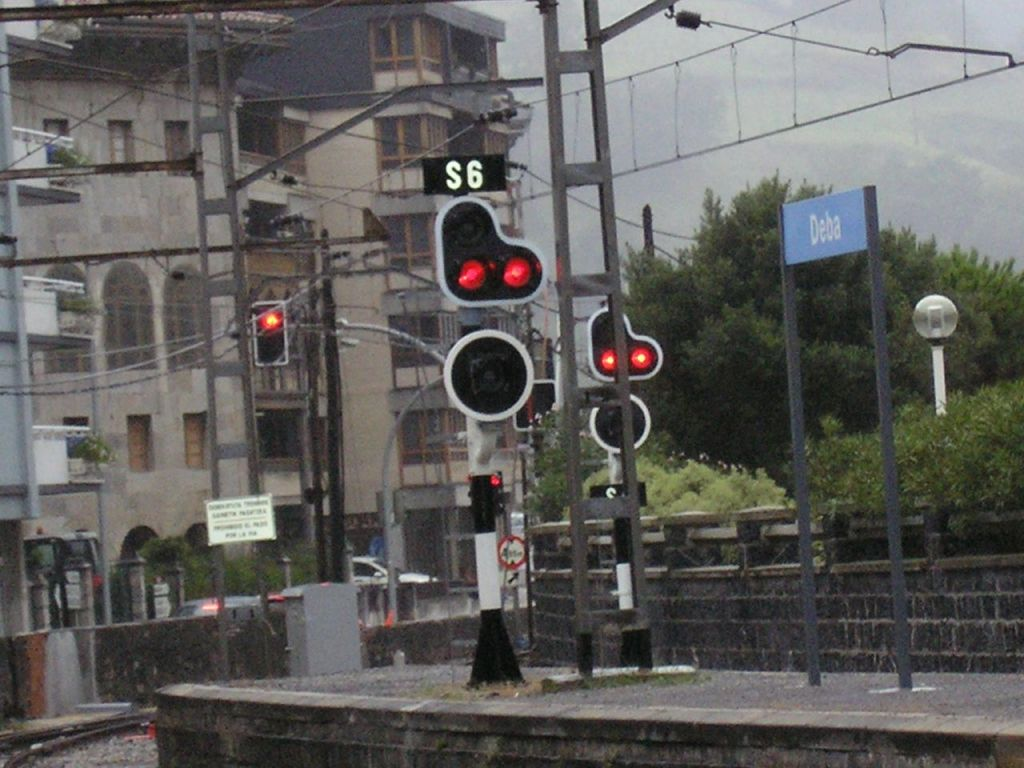red_light: (500, 255, 538, 291), (456, 255, 489, 290), (598, 346, 625, 378), (628, 344, 655, 374), (257, 308, 283, 333), (490, 474, 503, 487)
